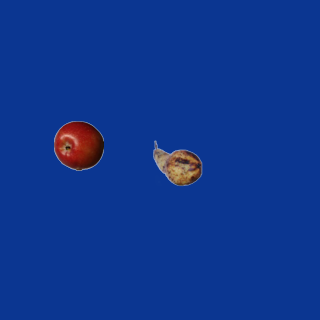Apple Braeburn: (53, 120, 103, 170)
Pear Abate: (152, 138, 202, 188)
